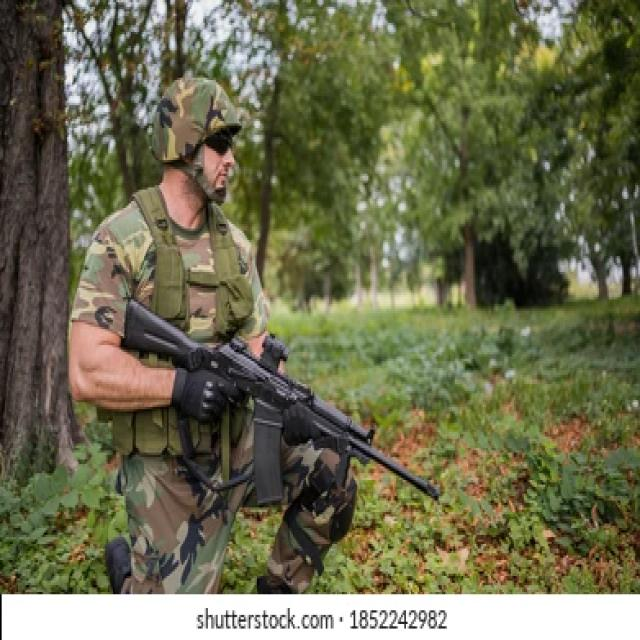soldier: (69, 79, 439, 596)
